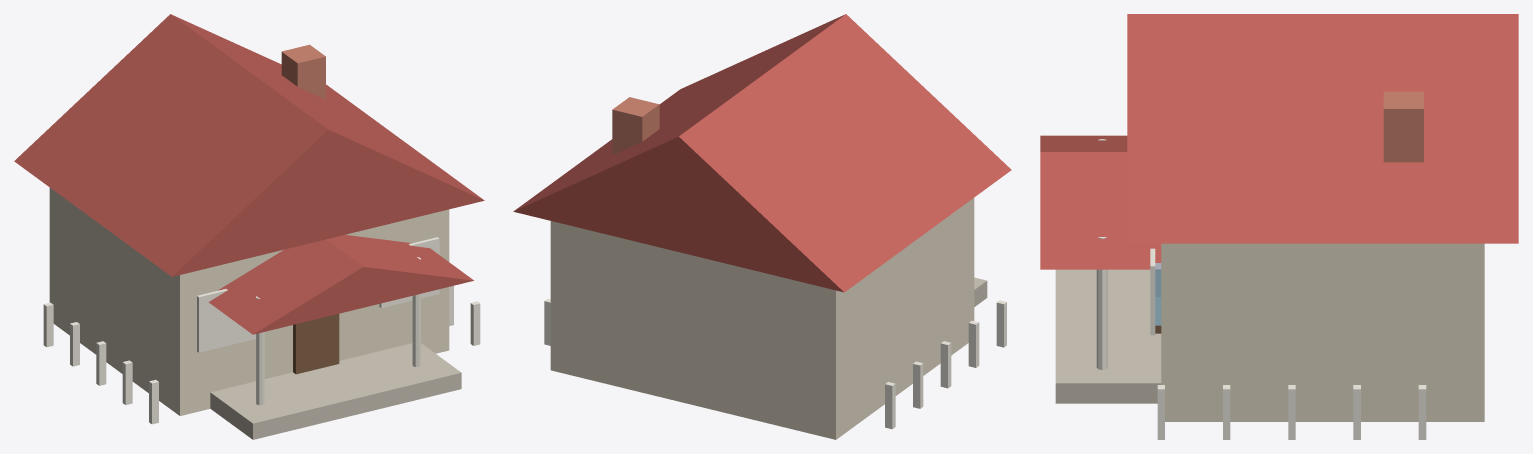
Rendered from cottage-house.glb.
3 renders of one model, left to right at view 1: azimuth 30°, elevation 25°; view 2: azimuth 150°, elevation 25°; view 3: azimuth 270°, elevation 25°, orthographic. The views are drawn at different scales.
Parts seen in each view (by area): view 1: Cottage_Gable_Roof, Cottage_Walls, Cottage_Porch_Roof, Cottage_Porch, Cottage_Door, Cottage_Window_Frame_-2.1, Cottage_Chimney, Cottage_Porch_Post_-1.8, Cottage_Porch_Post_1.8, Cottage_Window_Frame_2.1, Cottage_Fence_-3.7_2, Cottage_Fence_-3.7_4 (+2 smaller); view 2: Cottage_Gable_Roof, Cottage_Walls, Cottage_Chimney, Cottage_Fence_-3.7_1, Cottage_Fence_-3.7_2, Cottage_Fence_-3.7_3, Cottage_Fence_-3.7_0, Cottage_Fence_-3.7_4; view 3: Cottage_Gable_Roof, Cottage_Walls, Cottage_Porch_Roof, Cottage_Porch, Cottage_Chimney, Cottage_Porch_Post_1.8, Cottage_Window_Frame_2.1, Cottage_Fence_3.7_4.
Boxes of the visible parts, x1=… form: Cottage_Gable_Roof: x1=14, y1=14, x2=484, y2=276; Cottage_Walls: x1=49, y1=187, x2=449, y2=415; Cottage_Porch_Roof: x1=208, y1=235, x2=473, y2=334; Cottage_Porch: x1=210, y1=343, x2=461, y2=439; Cottage_Door: x1=293, y1=314, x2=339, y2=374; Cottage_Window_Frame_-2.1: x1=197, y1=289, x2=255, y2=352; Cottage_Chimney: x1=281, y1=44, x2=325, y2=99; Cottage_Porch_Post_-1.8: x1=256, y1=296, x2=264, y2=405; Cottage_Porch_Post_1.8: x1=412, y1=257, x2=420, y2=366; Cottage_Window_Frame_2.1: x1=379, y1=237, x2=439, y2=307; Cottage_Fence_-3.7_2: x1=96, y1=341, x2=106, y2=385; Cottage_Fence_-3.7_4: x1=43, y1=302, x2=53, y2=347; Cottage_Gable_Roof: x1=513, y1=14, x2=1011, y2=292; Cottage_Walls: x1=550, y1=198, x2=974, y2=439; Cottage_Chimney: x1=612, y1=97, x2=659, y2=155; Cottage_Fence_-3.7_1: x1=968, y1=320, x2=979, y2=367; Cottage_Fence_-3.7_2: x1=940, y1=341, x2=951, y2=388; Cottage_Fence_-3.7_3: x1=913, y1=361, x2=923, y2=408; Cottage_Fence_-3.7_0: x1=996, y1=300, x2=1006, y2=347; Cottage_Fence_-3.7_4: x1=885, y1=382, x2=895, y2=429; Cottage_Gable_Roof: x1=1127, y1=14, x2=1518, y2=243; Cottage_Walls: x1=1161, y1=243, x2=1484, y2=421; Cottage_Porch_Roof: x1=1040, y1=135, x2=1161, y2=269; Cottage_Porch: x1=1055, y1=269, x2=1161, y2=403; Cottage_Chimney: x1=1383, y1=91, x2=1423, y2=162; Cottage_Porch_Post_1.8: x1=1096, y1=237, x2=1107, y2=369; Cottage_Window_Frame_2.1: x1=1150, y1=248, x2=1155, y2=335; Cottage_Fence_3.7_4: x1=1418, y1=385, x2=1426, y2=439.
Bounding box in the file's own units: 7.56 × 5.8 × 7.7.
